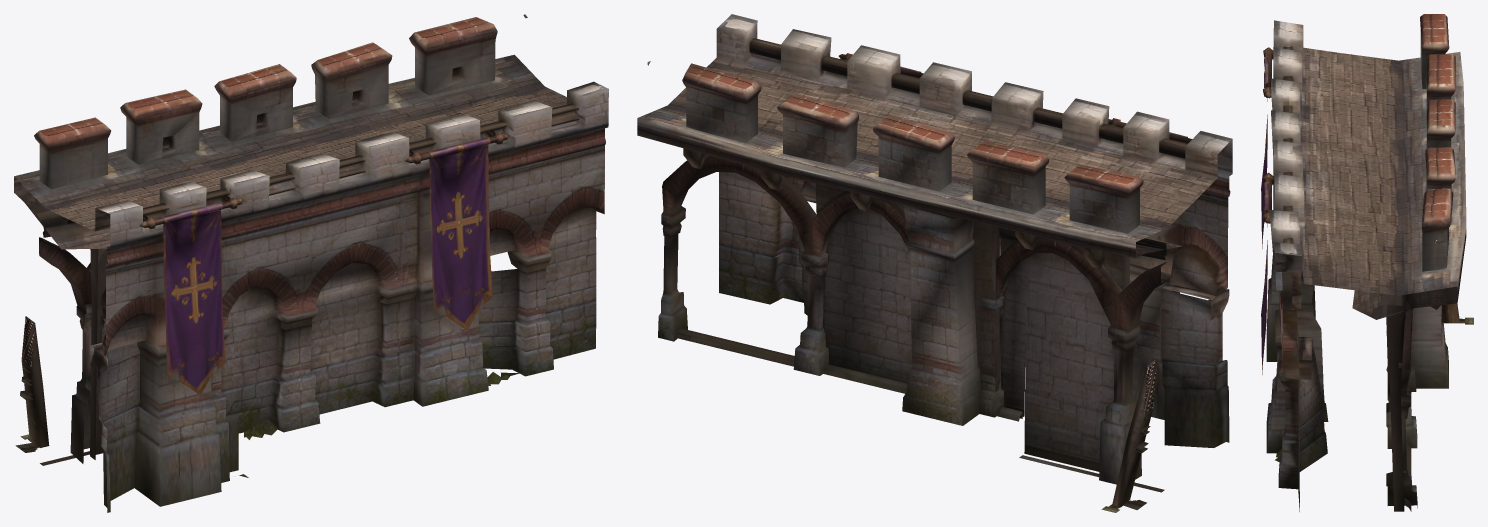
File: WallRunFront_10.fbx
The picture shows the model from 3 angles, left to right: view 1: azimuth 30°, elevation 25°; view 2: azimuth 150°, elevation 25°; view 3: azimuth 270°, elevation 25°; orthographic projection. The views are drawn at different scales.
Visible parts, largest first — view 1: WallRunFront_10; view 2: WallRunFront_10; view 3: WallRunFront_10.
Boxes of the visible parts, x1=… form: WallRunFront_10: x1=14, y1=14, x2=608, y2=512; WallRunFront_10: x1=637, y1=14, x2=1232, y2=512; WallRunFront_10: x1=1261, y1=14, x2=1473, y2=511.
Size of the model in its own units: 1057 by 650 by 403.
Materials: 1 (1 with a texture image).
